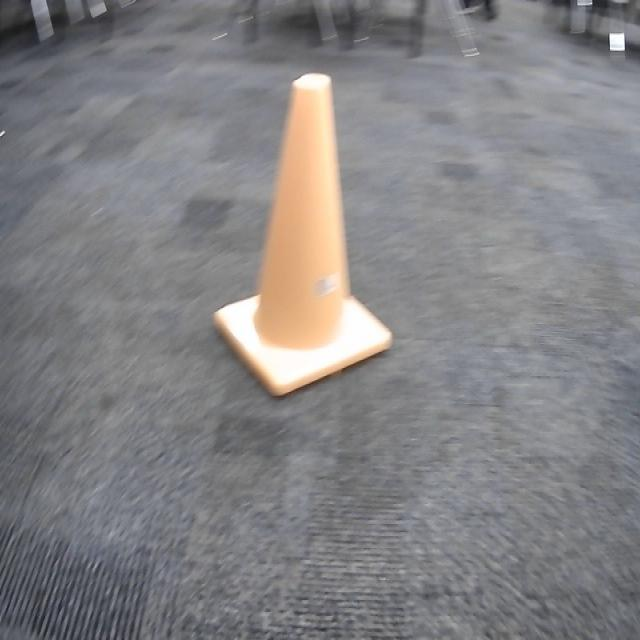cone: (213, 73, 394, 403)
